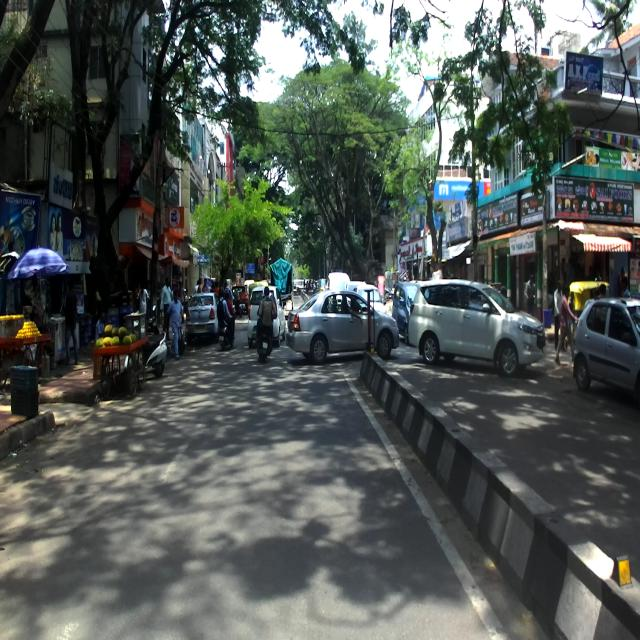car ahead at: (410, 277, 544, 381), (288, 287, 398, 356), (577, 291, 640, 398), (187, 289, 217, 335)
